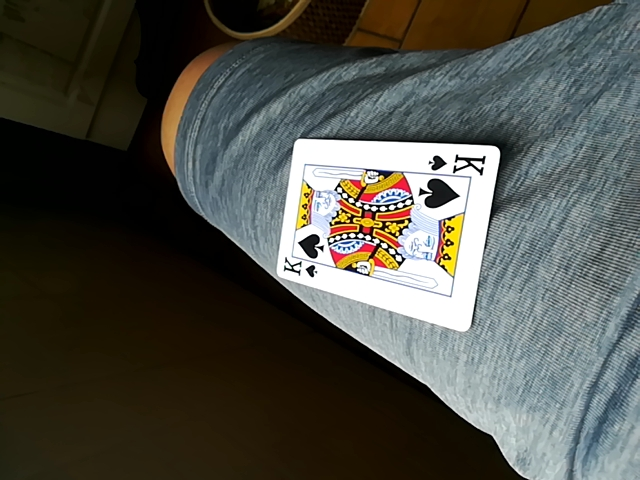ht k: (273, 134, 500, 332)
